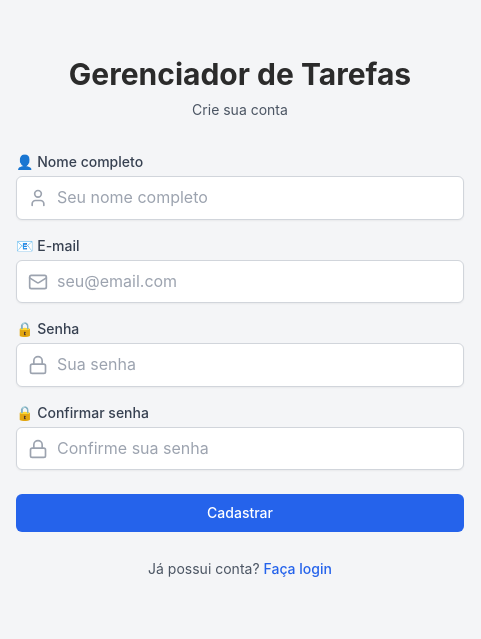
Scenario: Cadastro › deve mostrar erro quando senhas não coincidem
Type "Teste Silva" into the field with placeholder "Seu nome completo" at (240, 198), box left=16, top=176, right=464, bottom=220
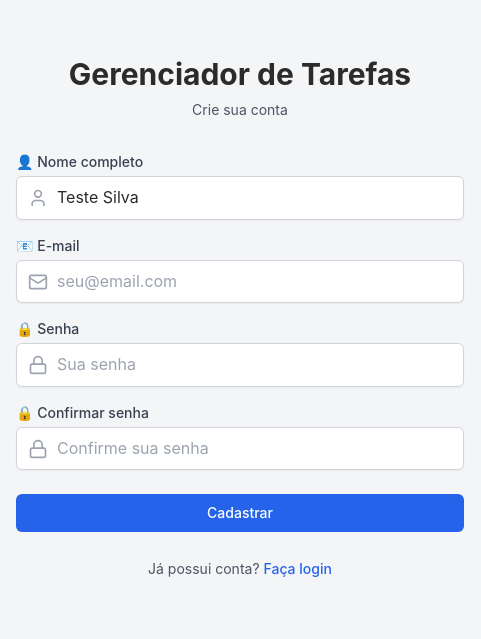
Type "teste@teste.com" into the field with placeholder "seu@email.com" at (240, 281), box left=16, top=260, right=464, bottom=303
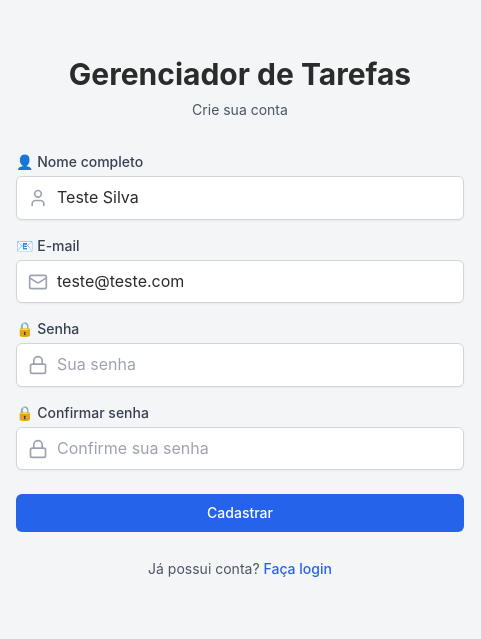
Type "123456" into the password field with placeholder "Sua senha" at (240, 365), box left=16, top=343, right=464, bottom=387
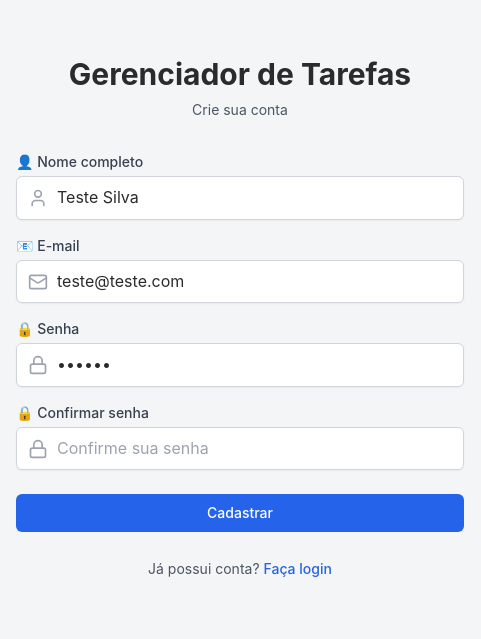
Type "654321" into the password field with placeholder "Confirme sua senha" at (240, 449), box left=16, top=427, right=464, bottom=470
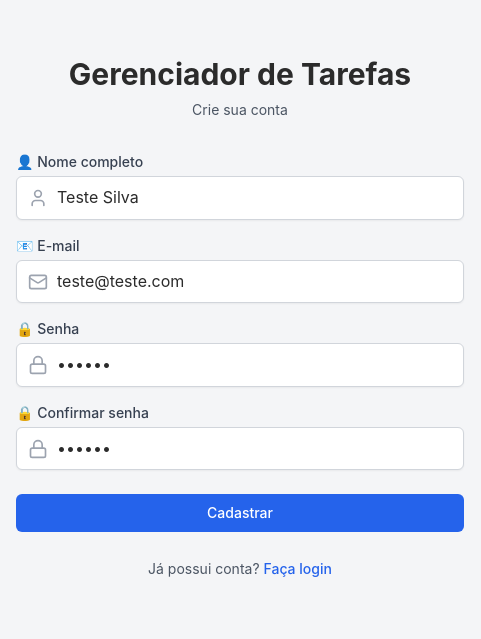
Click the button "Cadastrar" at (240, 513), box left=16, top=494, right=464, bottom=532
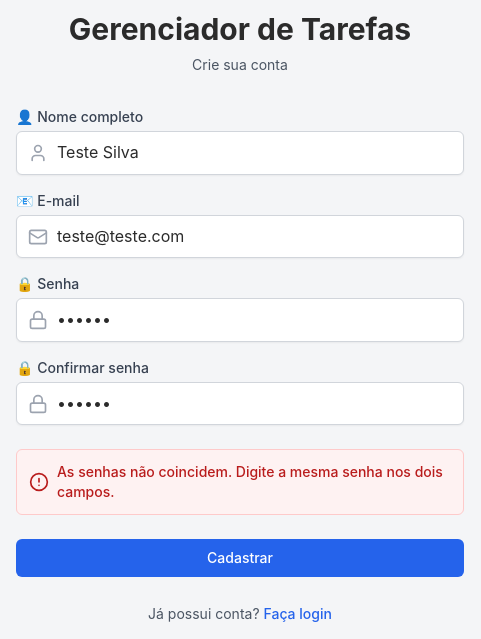
Expected: the text "As senhas não coincidem" is shown, left=57, top=463, right=443, bottom=500
